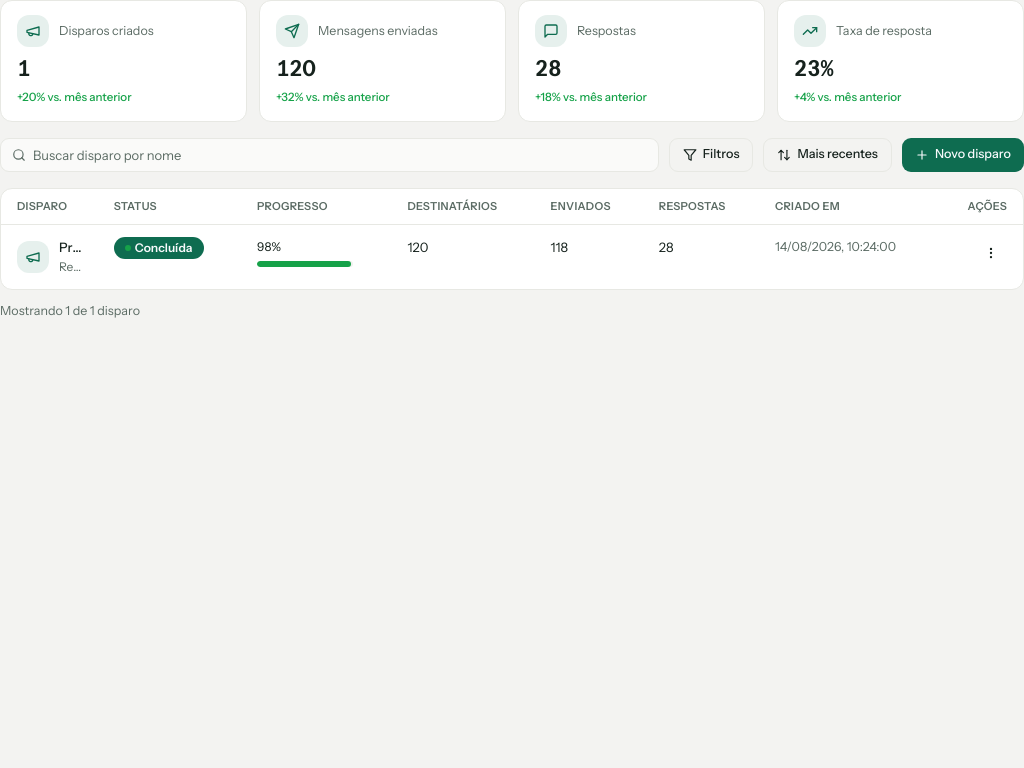
Test case: CampaignsPanel (retrofit visual 2026-08-18) › "Novo disparo" abre o formulário de criação (com upload de planilha na Seção 2)
The image size is (1024, 768).
Check: the text "Promoção Especial" is shown, box [59,237,82,257]
Click the button "Novo disparo". click: coordinates (963, 154)
box: [902,138,1023,172]
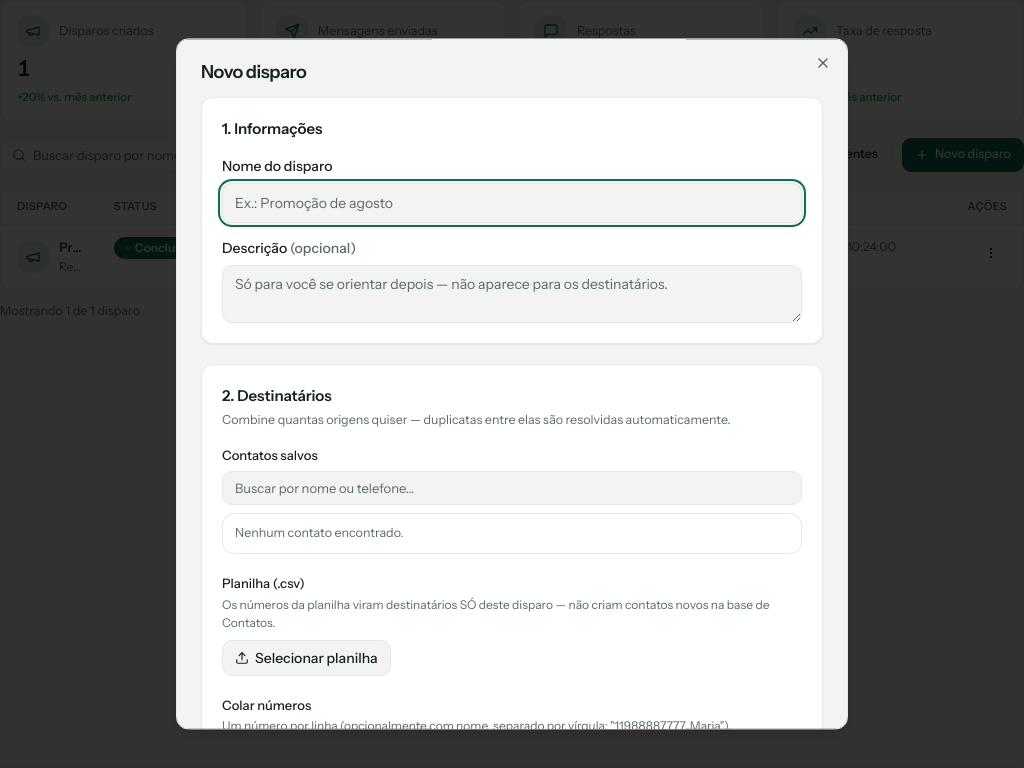
Check: the heading "Novo disparo" is shown, box [201,61,306,83]
